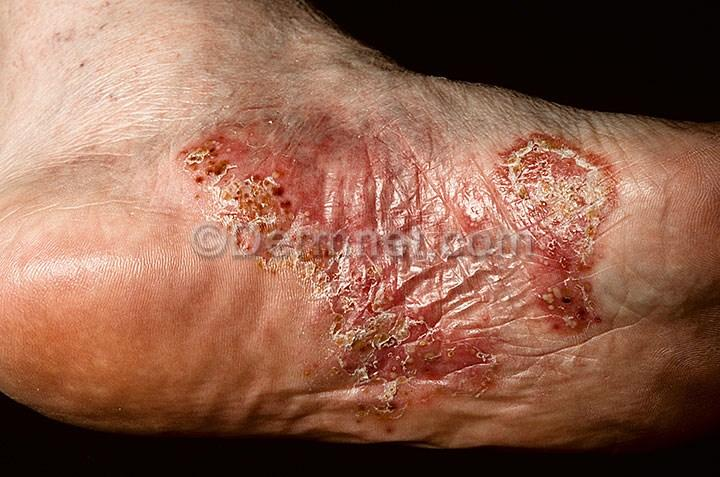Eczema: (168, 97, 372, 282), (493, 109, 649, 348), (282, 285, 519, 428), (373, 125, 507, 289)
